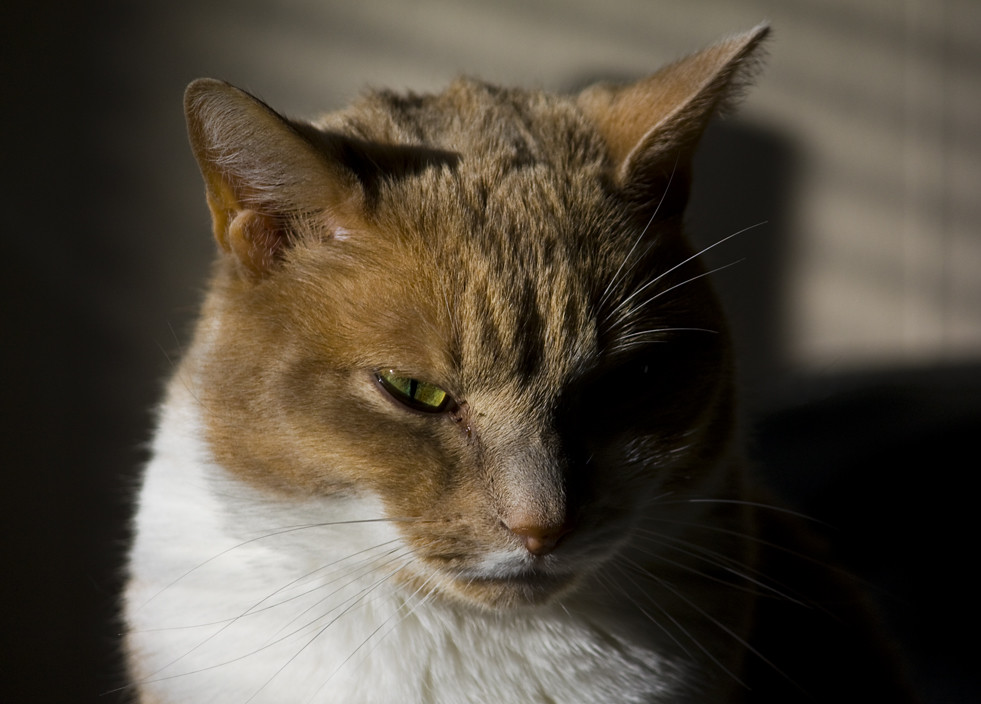cat: (126, 68, 862, 682)
